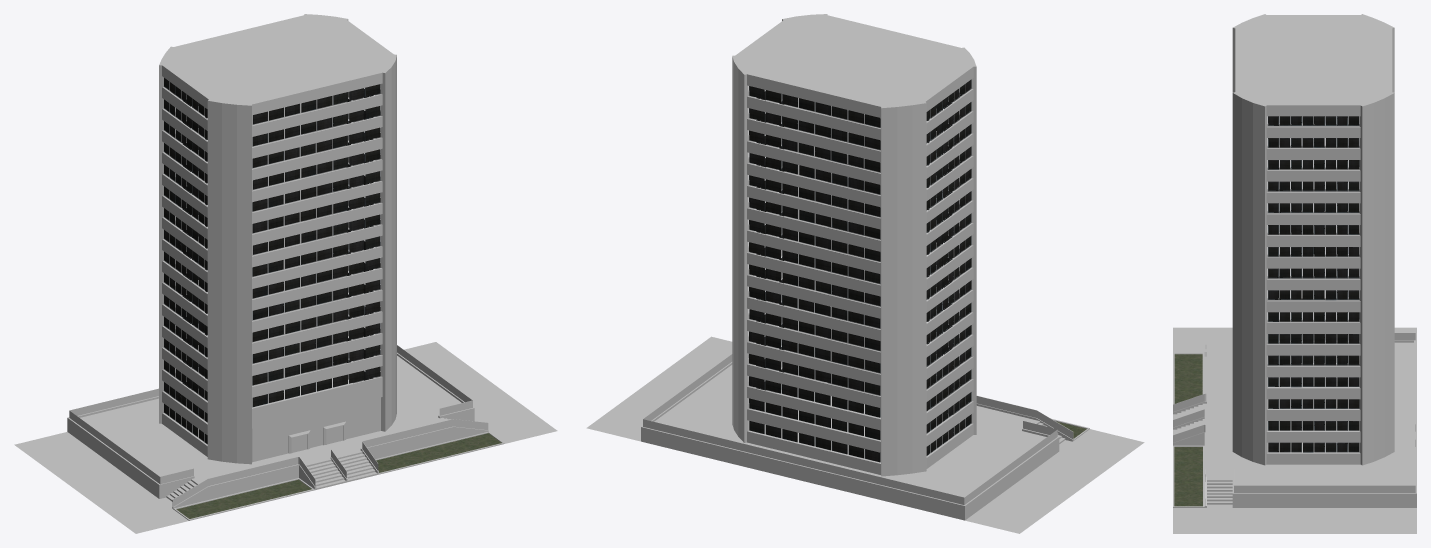
3 renders of one model, left to right at view 1: azimuth 30°, elevation 25°; view 2: azimuth 150°, elevation 25°; view 3: azimuth 270°, elevation 25°, orthographic. The views are drawn at different scales.
Visible parts, largest first — view 1: BC-032, BC-032-Base; view 2: BC-032, BC-032-Base; view 3: BC-032, BC-032-Base.
Part boxes in pixels (x1=…): BC-032: x1=159, y1=14, x2=396, y2=464; BC-032-Base: x1=14, y1=342, x2=557, y2=533; BC-032: x1=732, y1=14, x2=976, y2=476; BC-032-Base: x1=586, y1=336, x2=1144, y2=533; BC-032: x1=1232, y1=14, x2=1394, y2=465; BC-032-Base: x1=1173, y1=327, x2=1416, y2=533.
Size of what is drawn, in the model's own units: 72 by 60.46 by 36.
